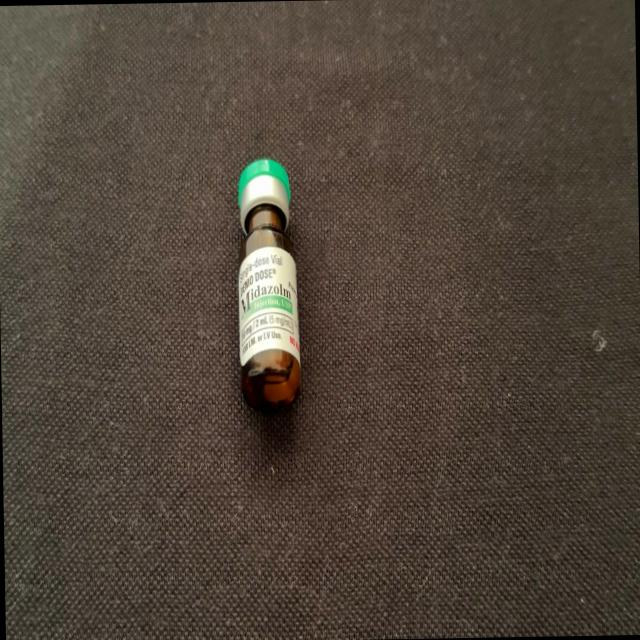midazolm: (237, 162, 300, 408)
